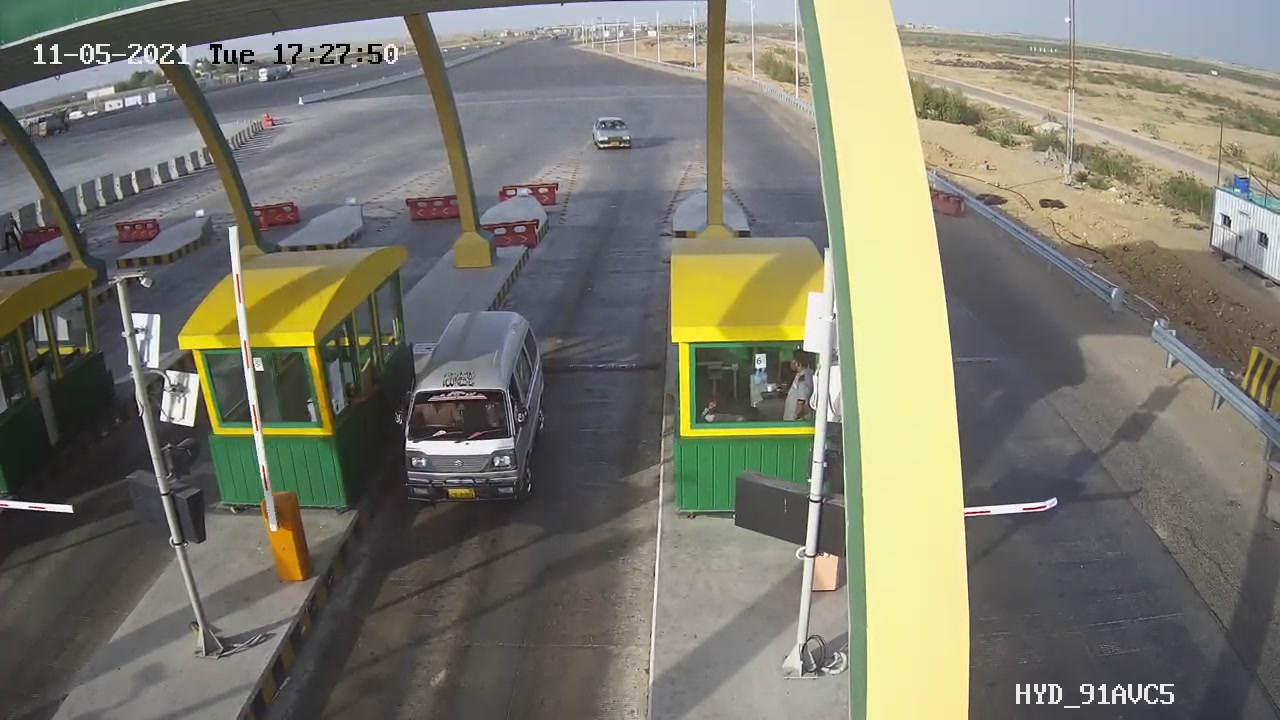F1: (381, 296, 572, 527)
